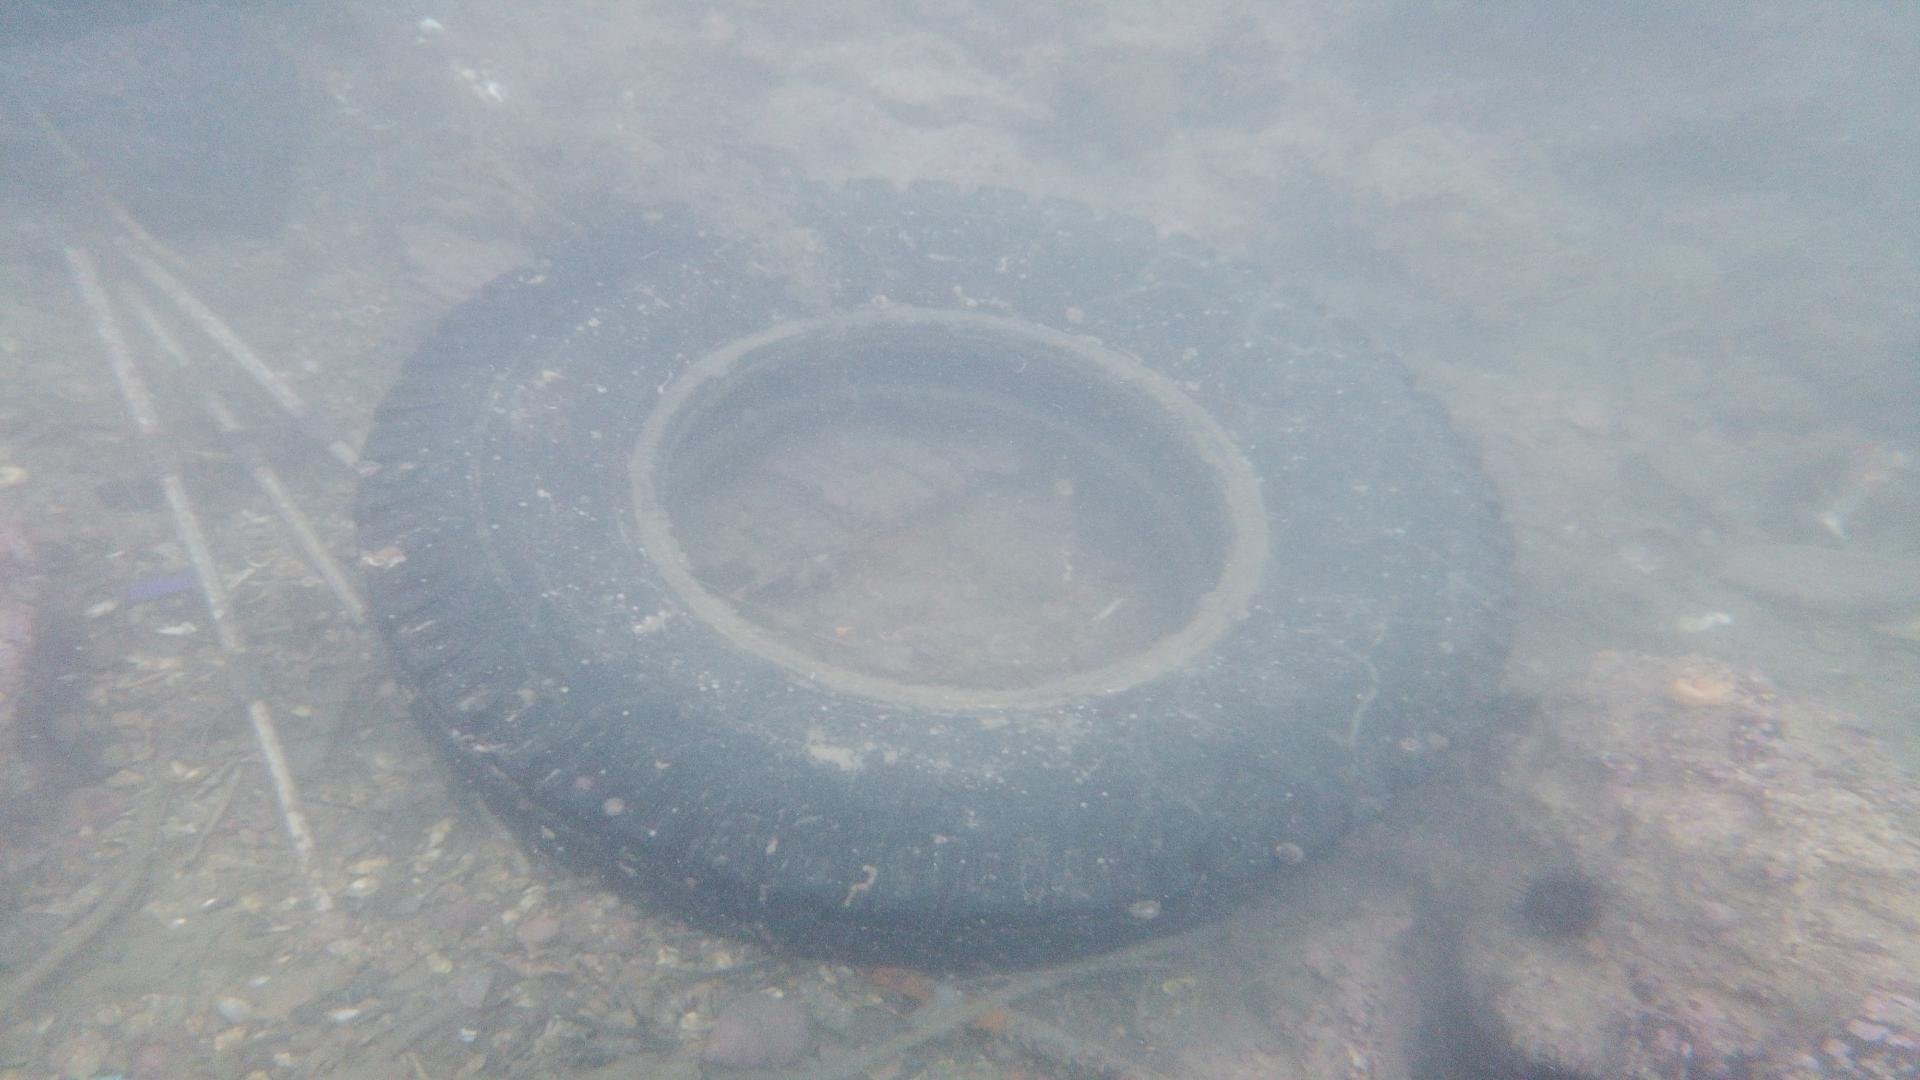tire: (357, 181, 1513, 973)
